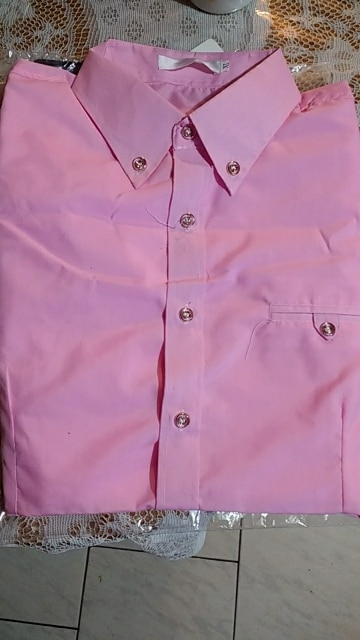shirts: (12, 55, 360, 519)
